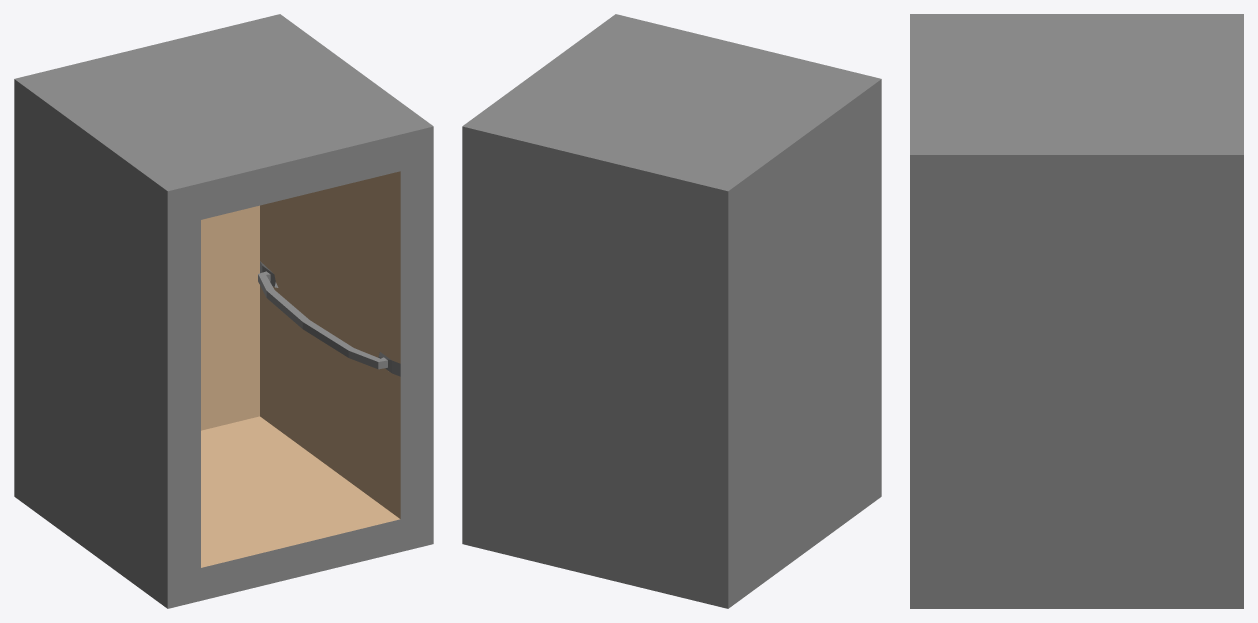
Rendered from Elevador.glb.
3 views of the same model, side by side, from view 1: azimuth 30°, elevation 25°; view 2: azimuth 150°, elevation 25°; view 3: azimuth 270°, elevation 25° (orthographic). The views are drawn at different scales.
Parts seen in each view (by area): view 1: Elevator-col; view 2: Elevator-col; view 3: Elevator-col.
Boxes of the visible parts, <box> form: Elevator-col: <box>14,14,433,608</box>; Elevator-col: <box>462,14,881,608</box>; Elevator-col: <box>910,14,1243,608</box>.
Size of the model in its own units: 2 by 3 by 2.
